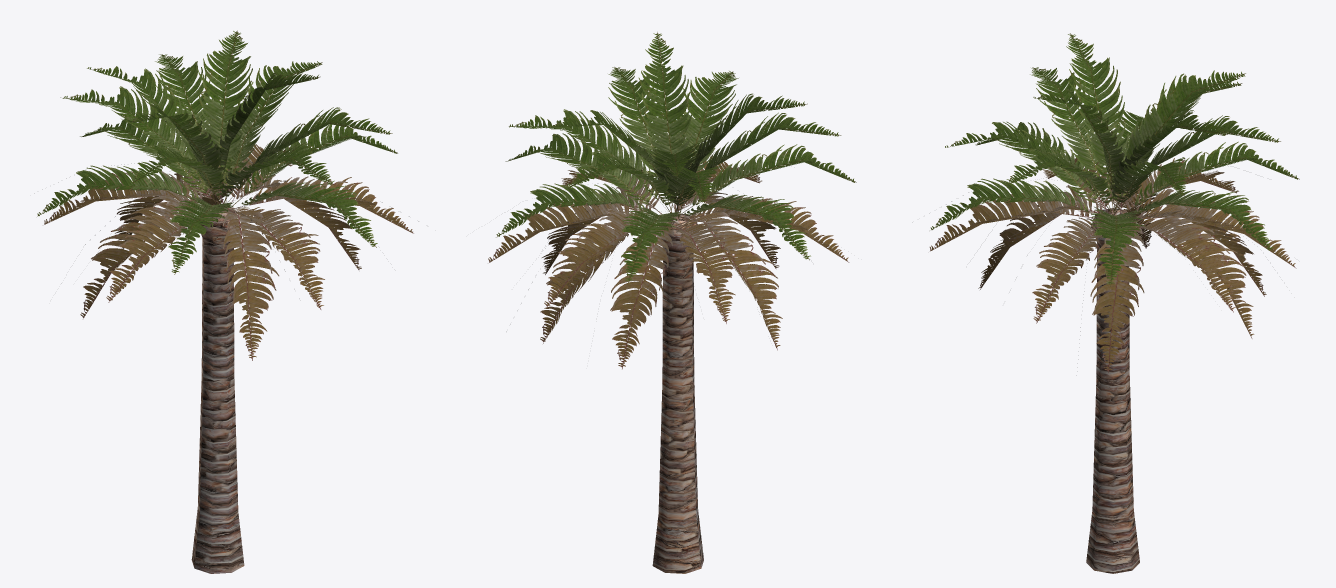
3 renders of one model, left to right at view 1: azimuth 30°, elevation 25°; view 2: azimuth 150°, elevation 25°; view 3: azimuth 270°, elevation 25°, orthographic. The views are drawn at different scales.
Parts seen in each view (by area): view 1: PhoenixPalm_d.010; view 2: PhoenixPalm_d.010; view 3: PhoenixPalm_d.010.
Boxes of the visible parts, <box> form: PhoenixPalm_d.010: <box>34,30,418,573</box>; PhoenixPalm_d.010: <box>488,32,856,573</box>; PhoenixPalm_d.010: <box>912,33,1299,573</box>.
Size of the model in its own units: 5.19 by 6.96 by 5.14.
Materials: 2 (2 with a texture image).
